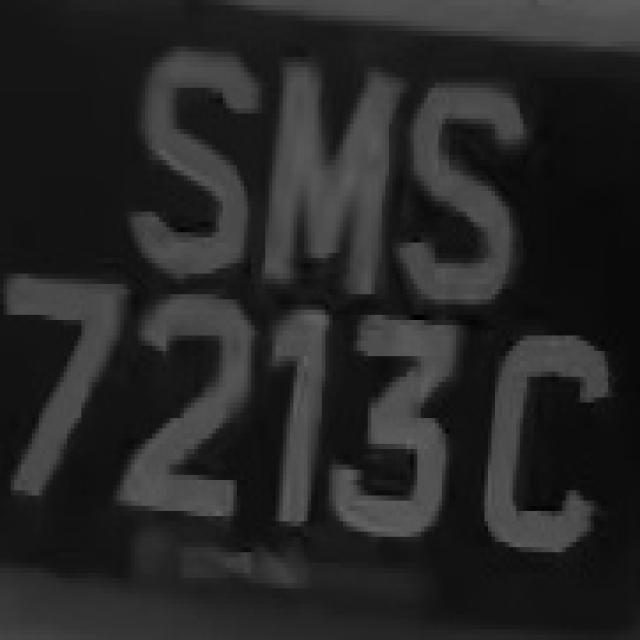1: (251, 289, 336, 552)
2: (116, 279, 255, 521)
3: (332, 300, 463, 552)
7: (7, 243, 113, 511)
C: (478, 300, 616, 562)
M: (258, 16, 389, 310)
S: (127, 36, 262, 284), (407, 57, 538, 304)
